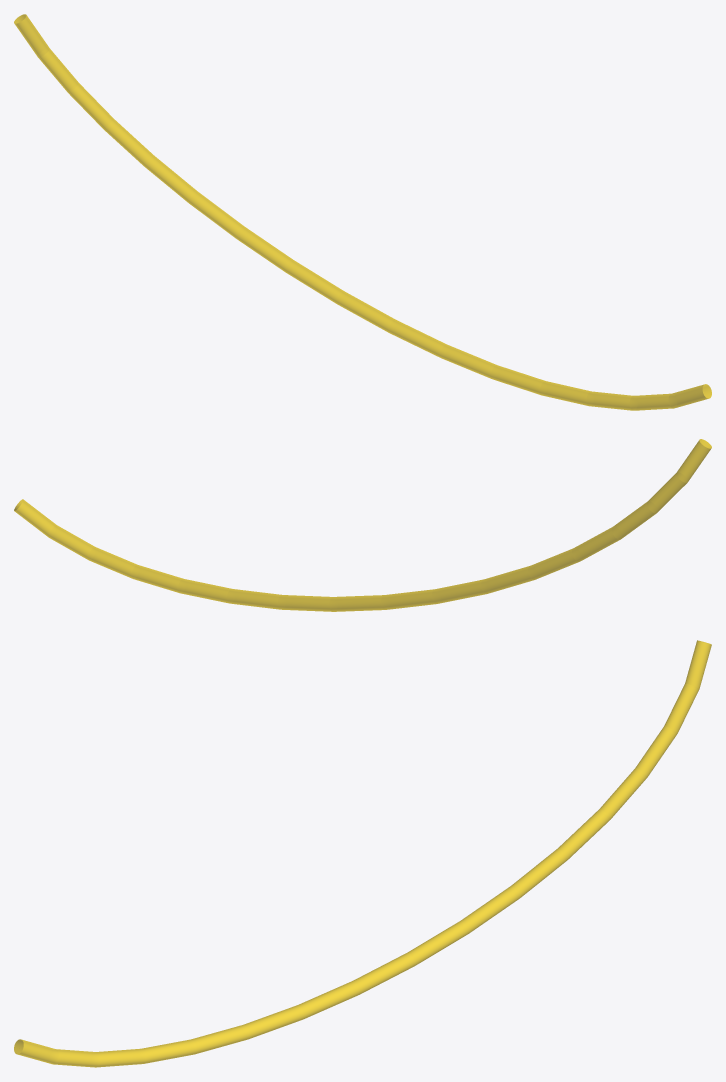
Rendered from Event_419990632_track_49.fbx.
The picture shows the model from 3 angles, top to bottom: view 1: azimuth 30°, elevation 25°; view 2: azimuth 210°, elevation 25°; view 3: azimuth 270°, elevation 25°; orthographic projection. The views are drawn at different scales.
Parts seen in each view (by area): view 1: Model; view 2: Model; view 3: Model.
Boxes of the visible parts, <box> form: Model: <box>14,14,711,410</box>; Model: <box>14,439,711,611</box>; Model: <box>14,640,711,1067</box>.
Size of the model in its own units: 1.13 by 0.7824 by 1.8.
